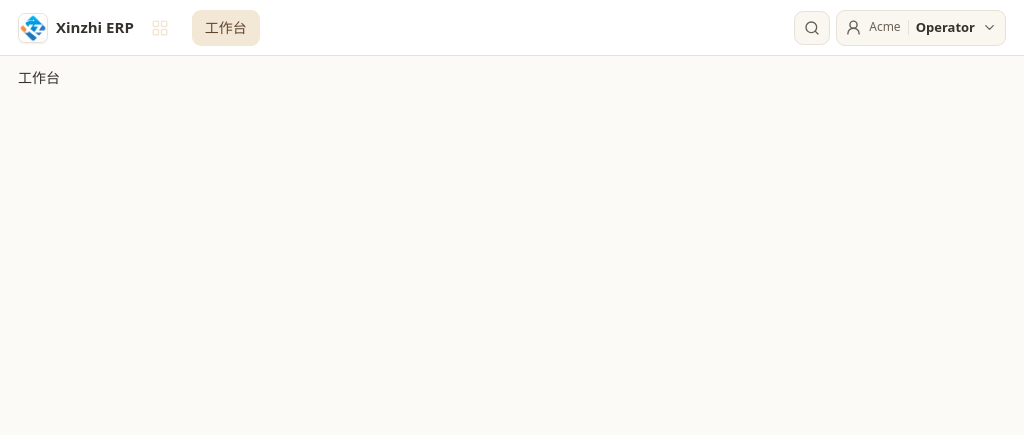
it: AppShell logout routing › groups identity and account operations under one account settings menu
The image size is (1024, 435).
Click the button with aria-label "打开账号设置". click: (921, 28)
box: [836,10,1006,46]
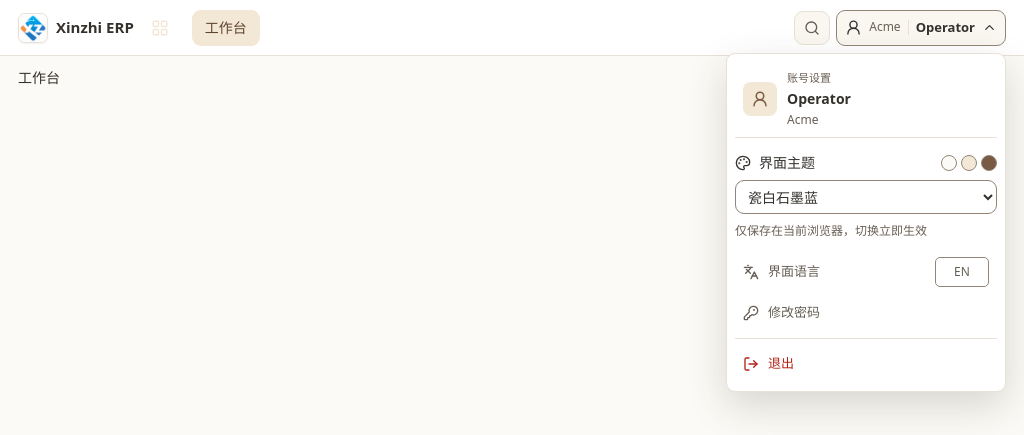
Result: the dropdown labelled "界面主题" is shown at [735,180,997,214]
Click the button with aria-label "打开账号设置". click: (921, 28)
box: [836,10,1006,46]
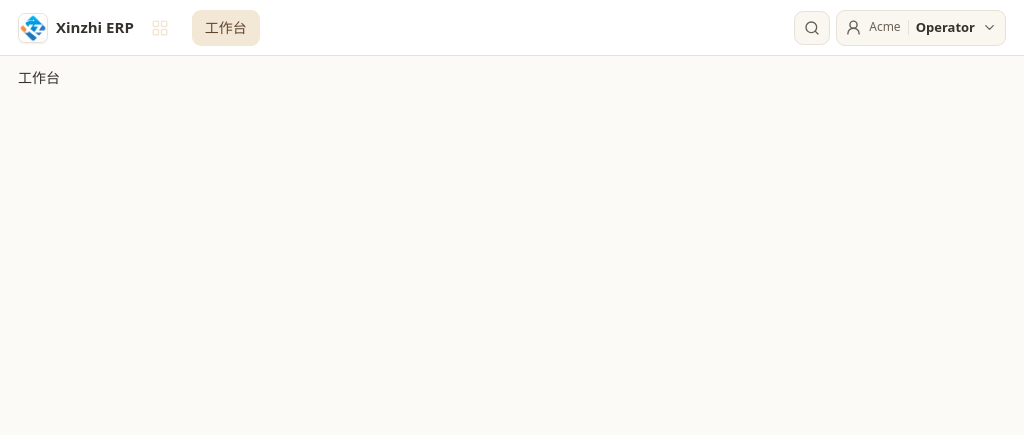
Expected: the text "Acme" is shown, [869,20,901,35]
Result: the button "修改密码" is gone
Result: the button "退出登录" is gone
Click the button with aria-label "打开账号设置". click: (921, 28)
box: [836,10,1006,46]
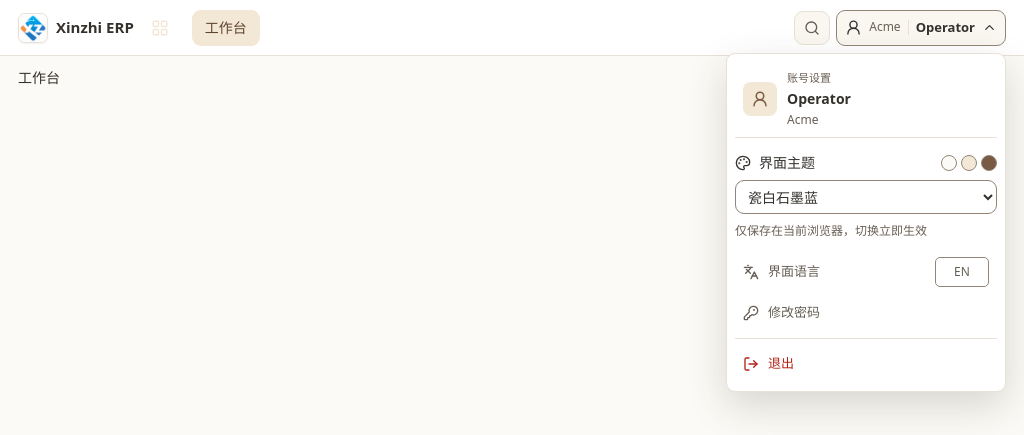
Result: the button with aria-label "打开账号设置" is expanded at [836,10,1006,46]
Result: the text "界面语言" is shown at [743,262,820,282]
Result: the button "修改密码" is shown at [735,294,997,332]
